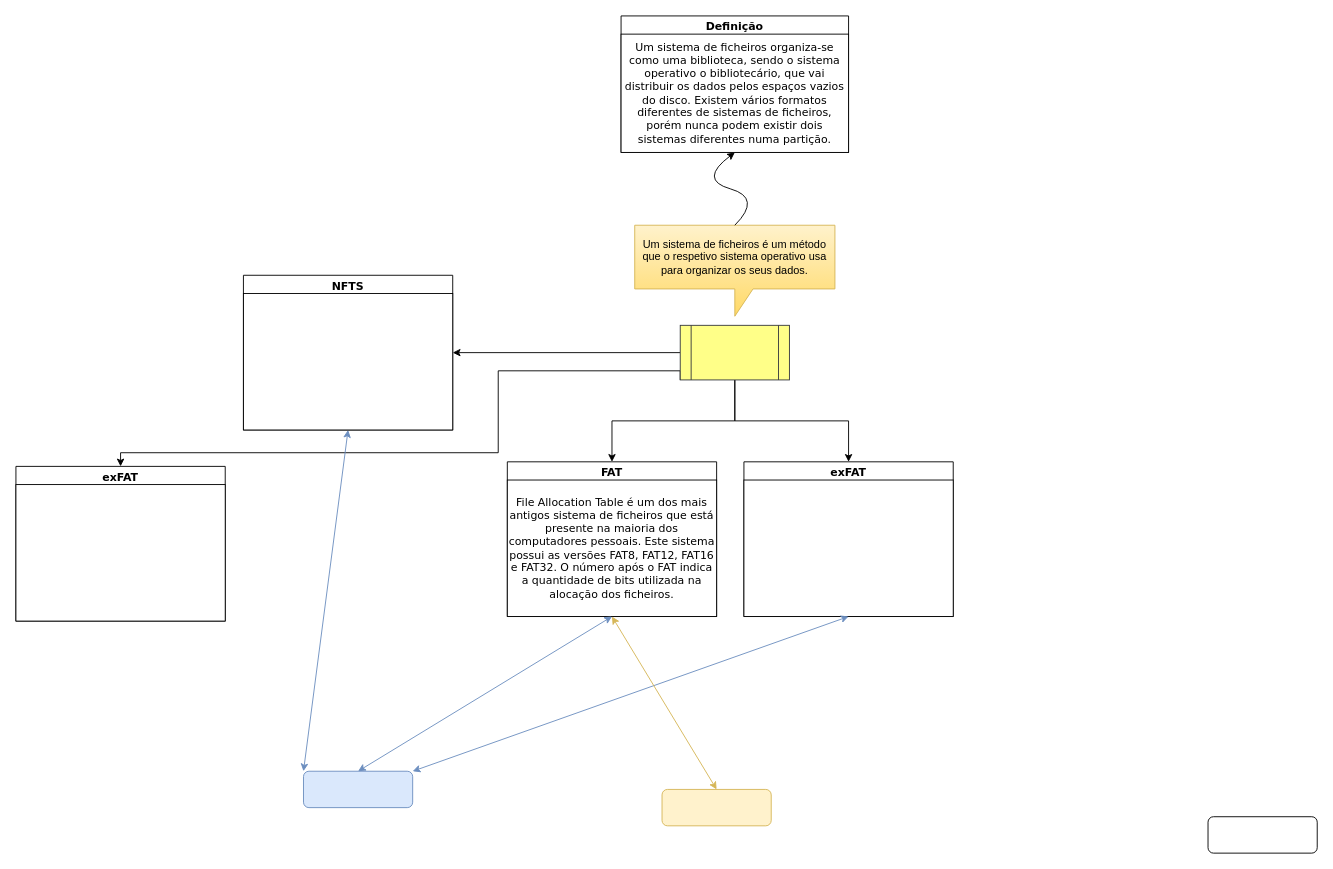
Image size: 1333x869. Some labels were removed from this diagram. The shapes that lost their labels are listed below. From the top down, each one's centre as x and y in pixels, then its label:
the point at 734,352: Sistemas de Ficheiros
the point at 358,789: Windows
the point at 716,807: MacOS
the point at 1262,834: Linux
